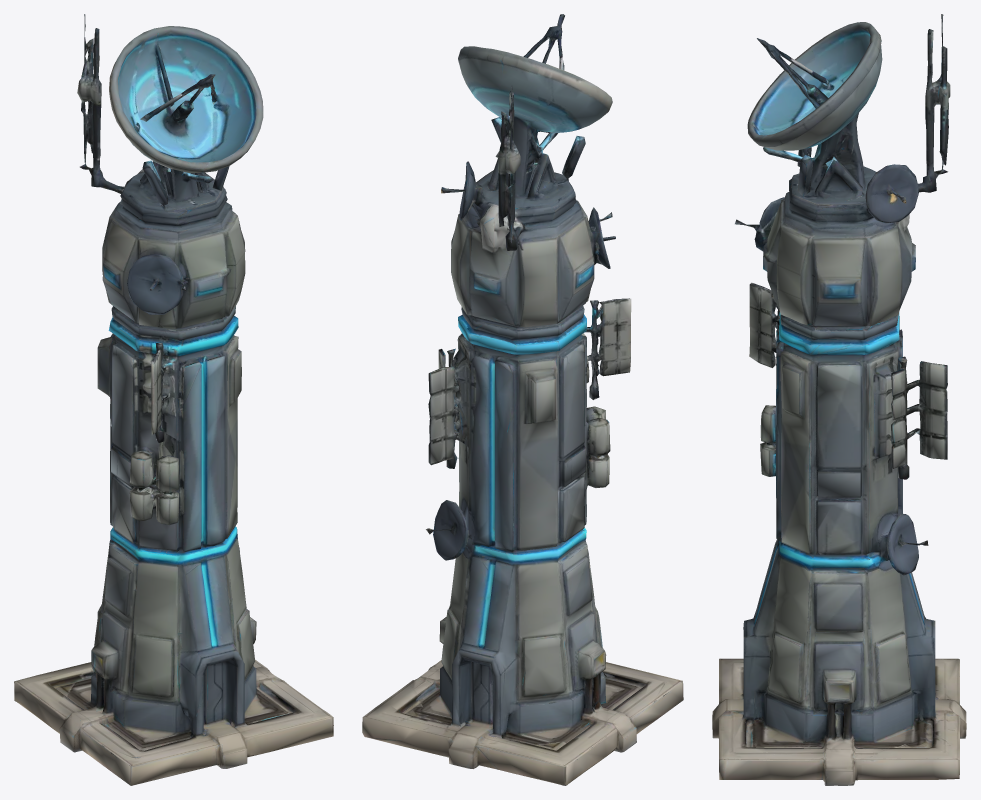
Rendered from radar_array.glb.
3 views of the same model, side by side, from view 1: azimuth 30°, elevation 25°; view 2: azimuth 150°, elevation 25°; view 3: azimuth 270°, elevation 25° (orthographic). The views are drawn at different scales.
Parts seen in each view (by area): view 1: Mesh1.0; view 2: Mesh1.0; view 3: Mesh1.0.
Part boxes in pixels (<box>): Mesh1.0: <box>14,14,333,785</box>; Mesh1.0: <box>362,14,683,785</box>; Mesh1.0: <box>712,14,966,785</box>.
Size of the model in its own units: 0.6253 by 1.9 by 0.6252.
Materials: 1 (1 with a texture image).
